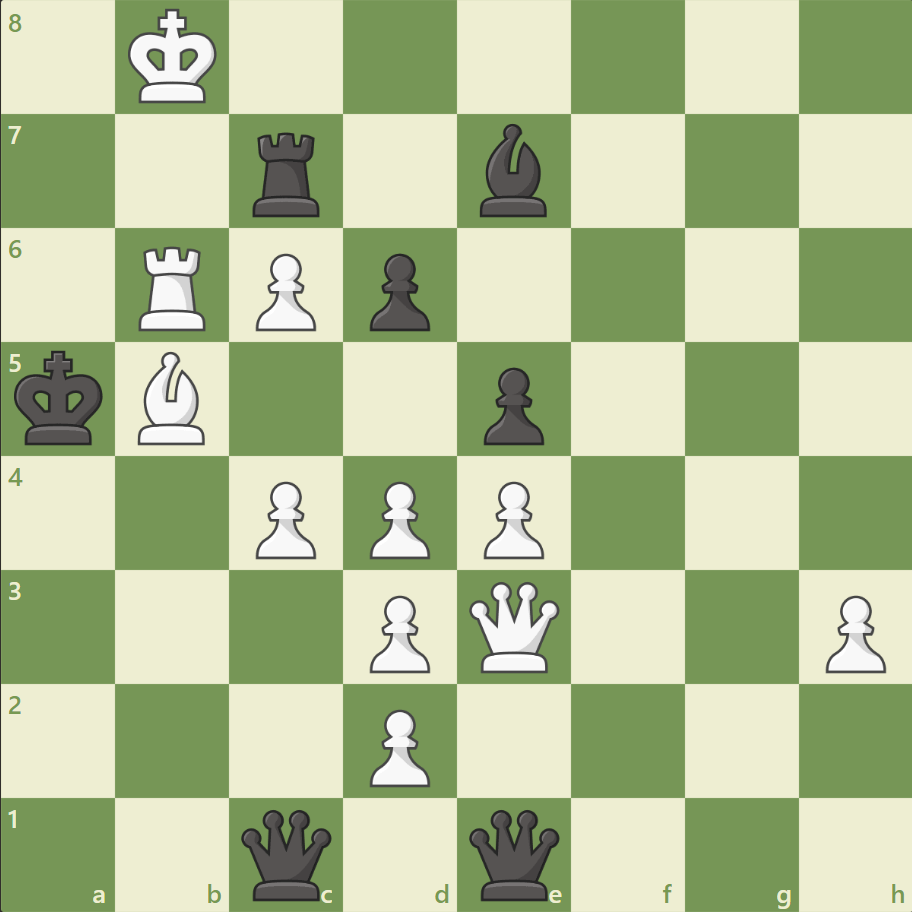B: (131, 347, 215, 449)
K: (124, 4, 224, 112)
P: (247, 246, 322, 337), (247, 473, 322, 564), (474, 473, 549, 564), (361, 473, 435, 564), (361, 586, 435, 677), (815, 586, 889, 677), (361, 700, 435, 791)
Q: (464, 576, 563, 676)
R: (133, 239, 215, 336)
b: (471, 120, 555, 222)
k: (11, 344, 111, 452)
p: (474, 359, 549, 450), (361, 246, 435, 337)
q: (237, 804, 336, 903), (464, 804, 563, 903)
r: (246, 125, 329, 222)
